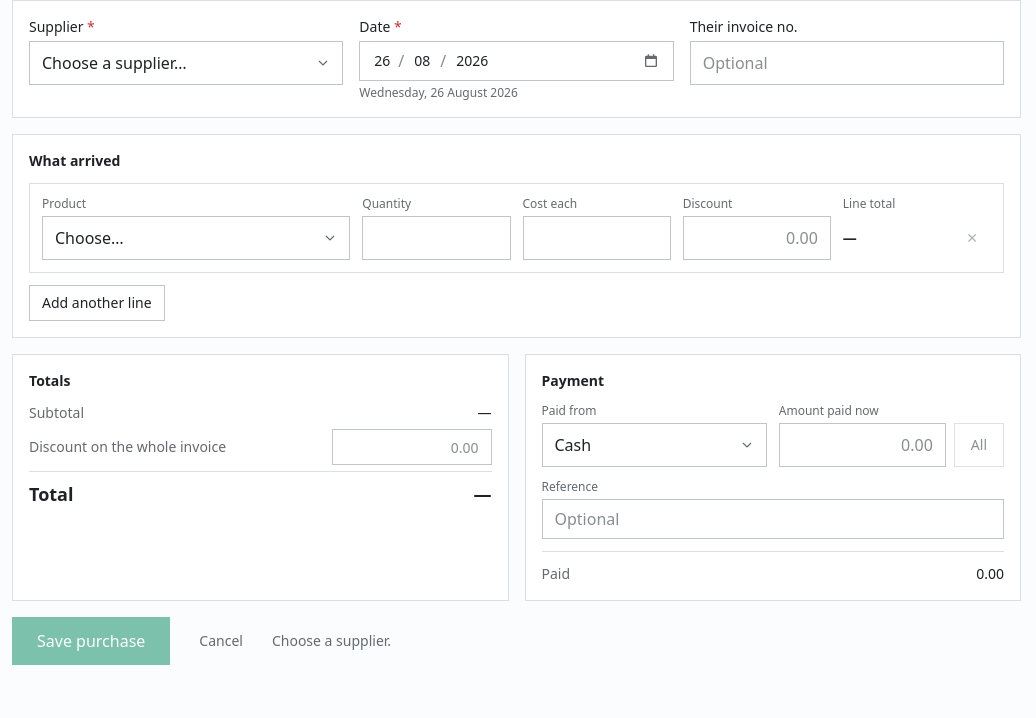
Test: the expiry date on a delivery line › WARNS when the date has already passed
Select "Evaporated Milk" in the dropdown labelled "Product" at point(196, 238), box [42,216,350,260]
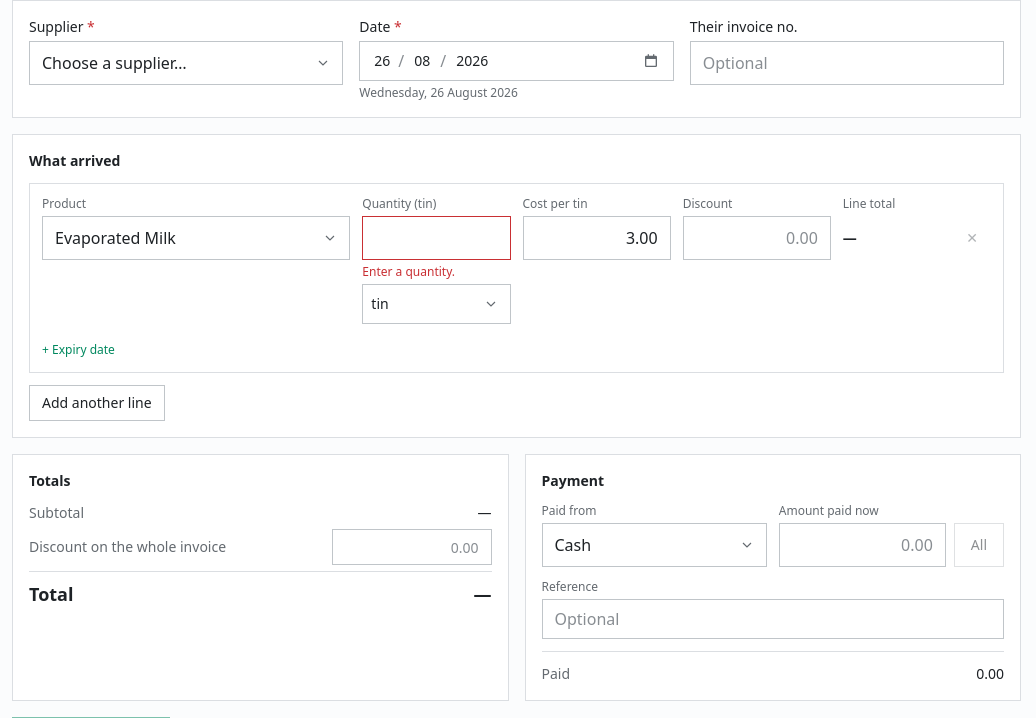
Click the button "+ Expiry date" at point(78, 350), box [42,342,115,358]
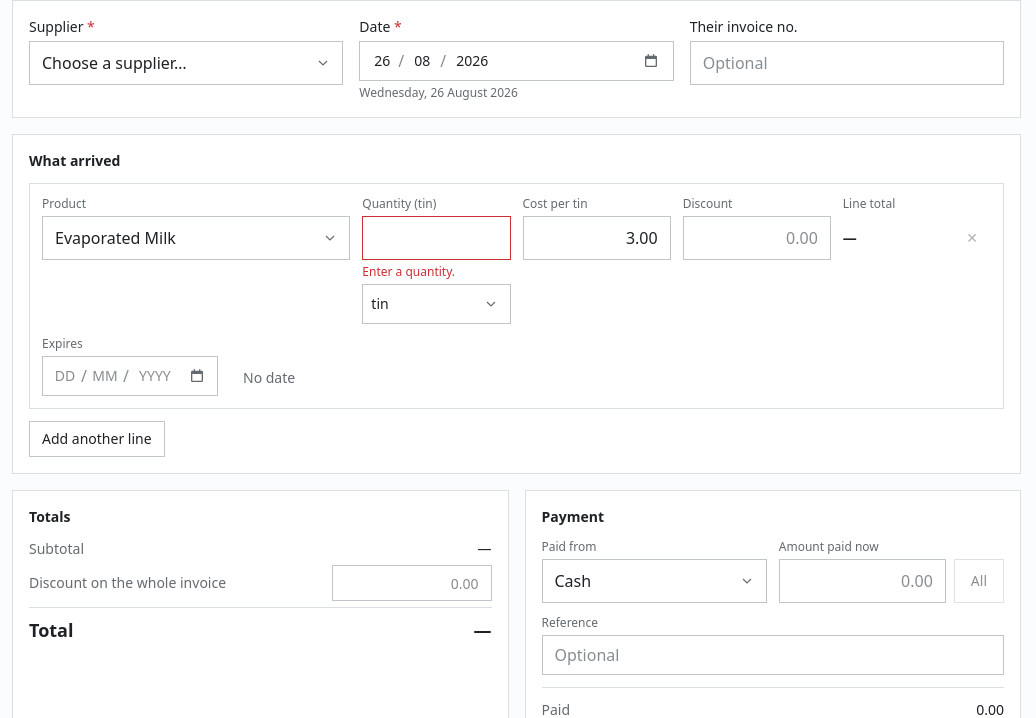
Type "31" into the field named "Expires day" at point(65, 376), box [51,366,79,386]
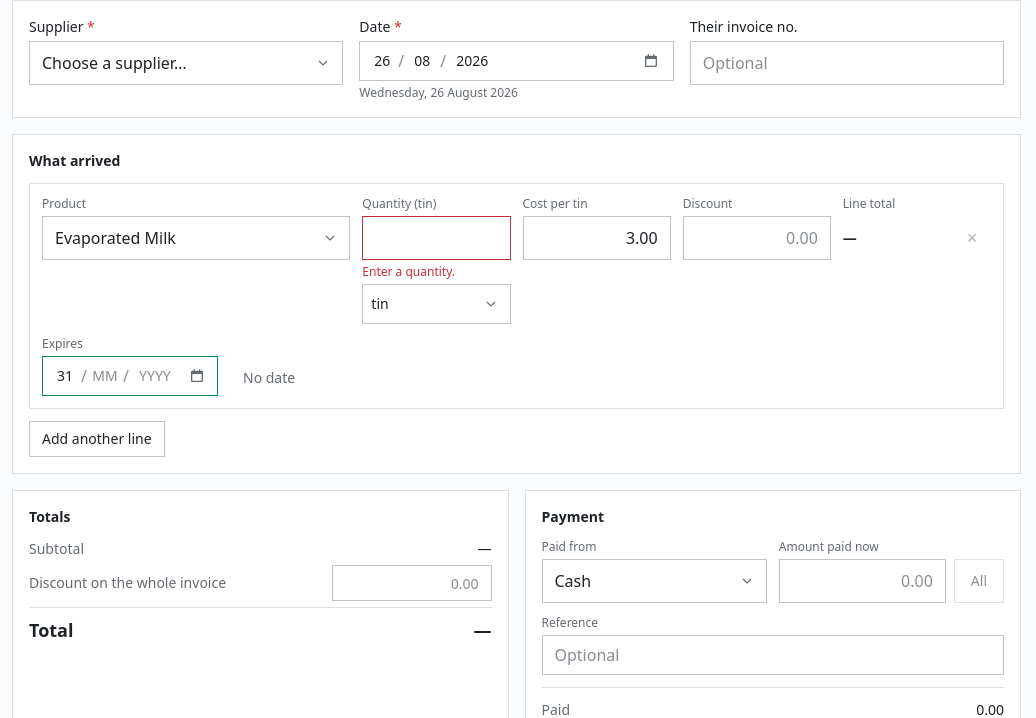
Type "03" into the field with placeholder "MM" at point(105, 376), box [89,366,121,386]
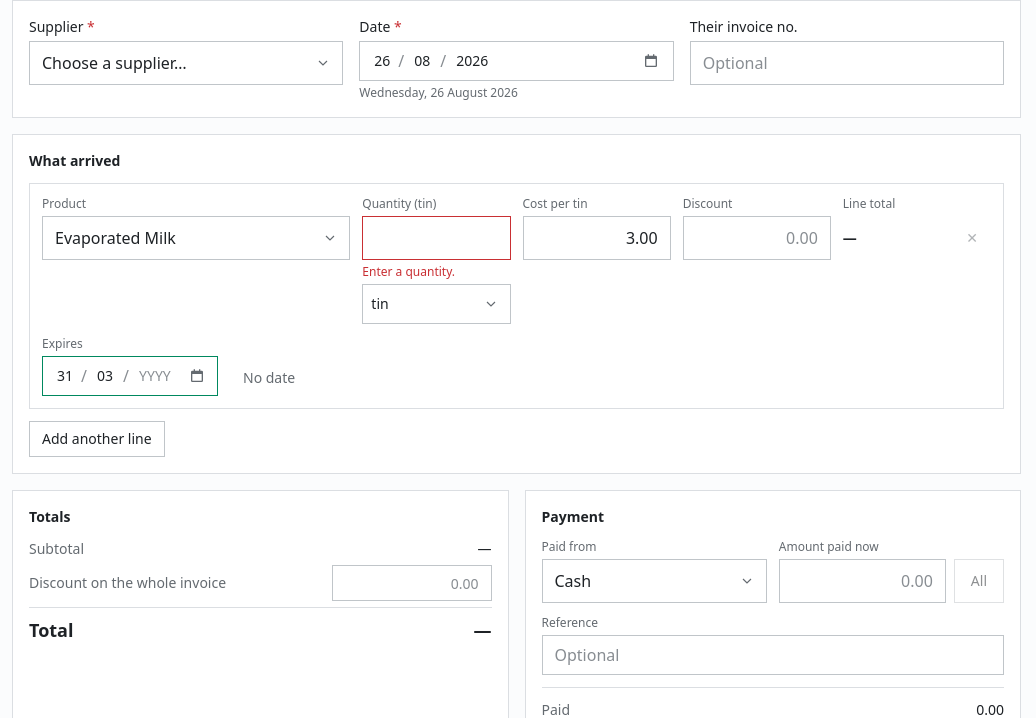
Type "2025" into the field with placeholder "YYYY" at point(155, 376), box [131,366,179,386]
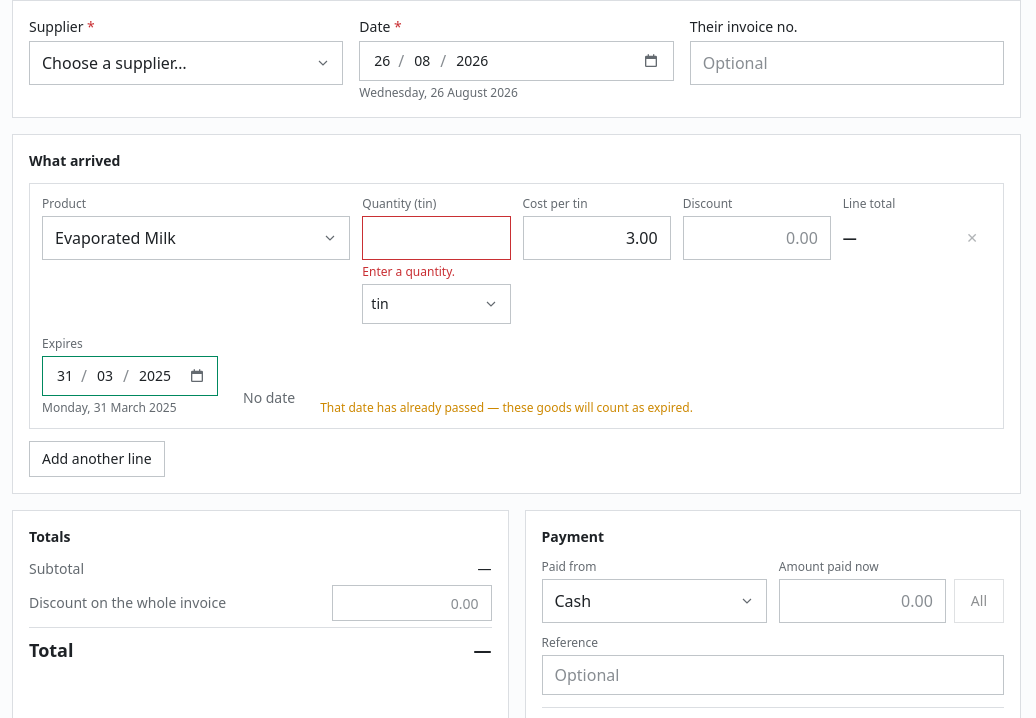
Expected: the text "That date has already passed" is shown, [320,399,693,416]
